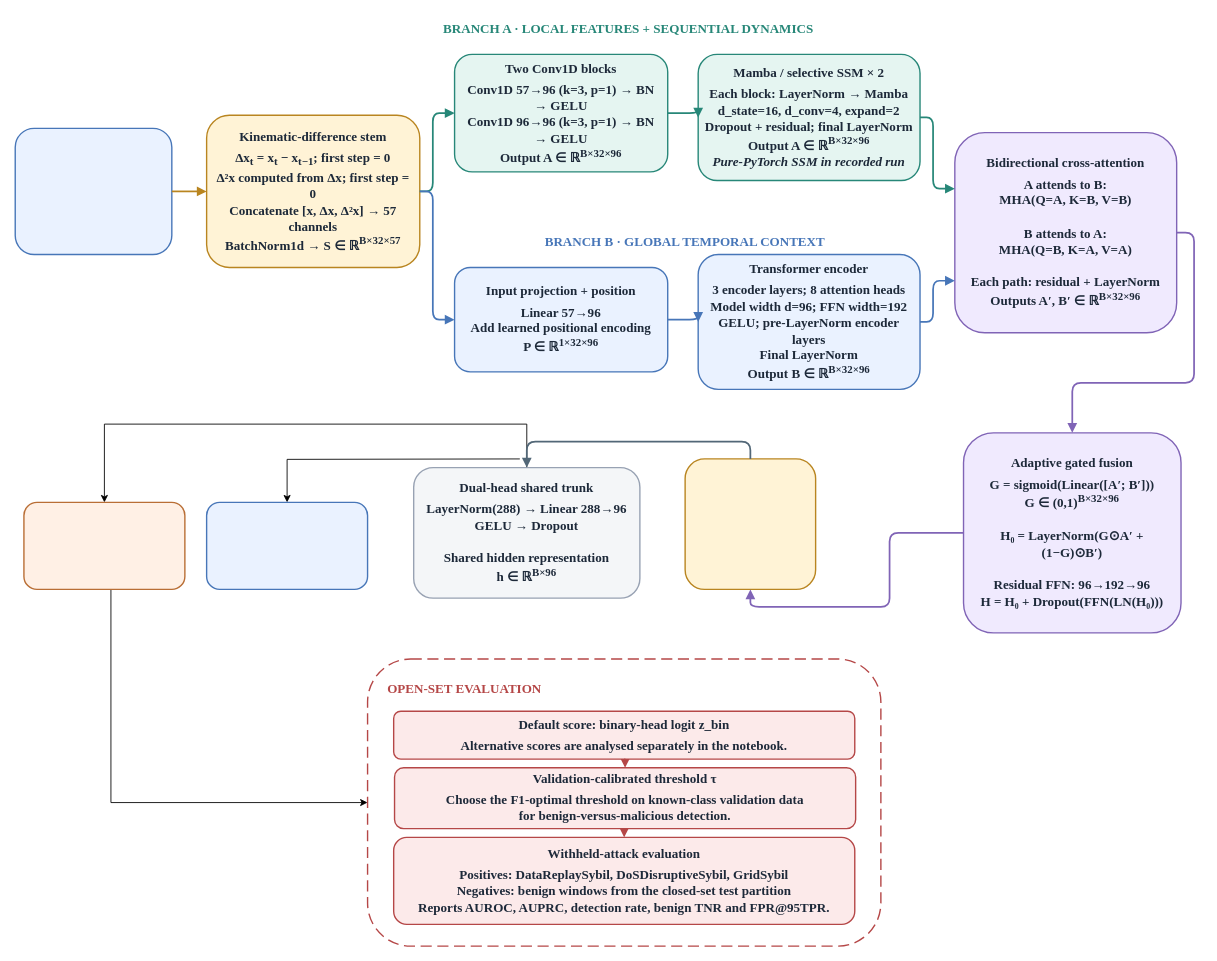
The diagram is 1217 pixels wide and 961 high, and some of its shapes have lost their labels. The centre of each missing label's shape, as x and y in pixels:
"17-class head Linear 96→17 Known classes: benign + 16 attacks Logits z mc" belongs at pixel 286 545.
"Binary head Linear 96→1 Benign vs. malicious Logit z bin" belongs at pixel 104 545.
"BSM sequence input X ∈ ℝ B×32×19 32 consecutive messages 19 retained features" belongs at pixel 93 191.
"Temporal pooling Concatenate: mean(H) max(H) last token Vector = 3d = 288" belongs at pixel 750 524.
